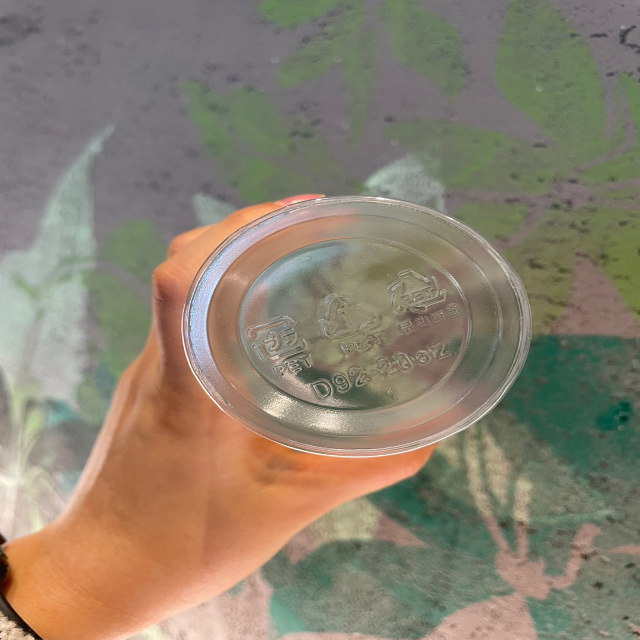pet: (383, 264, 471, 336), (240, 312, 322, 380), (317, 286, 390, 356)
